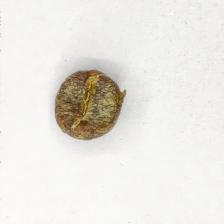NG: (56, 69, 119, 141)
